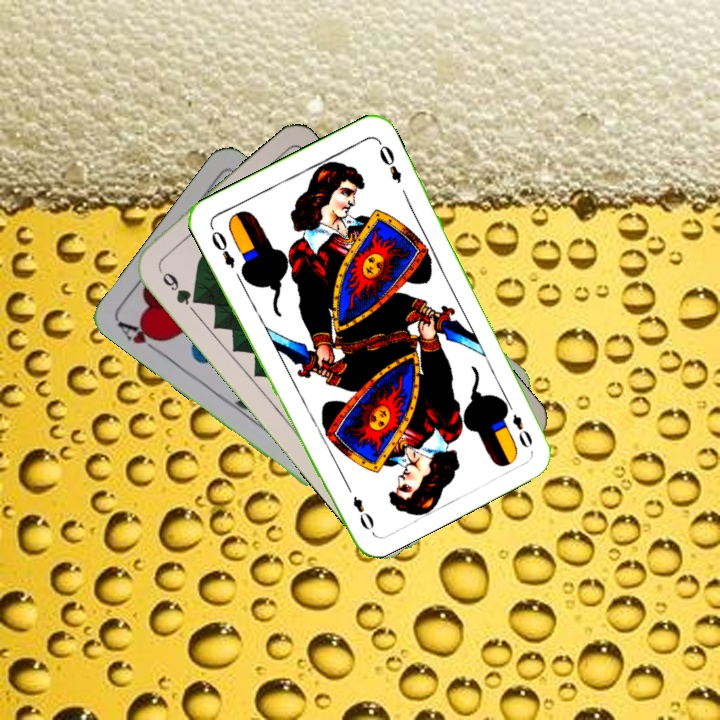EO: (500, 397, 535, 451), (206, 222, 238, 271)
G9: (155, 264, 202, 308)
HA: (114, 317, 169, 358)
